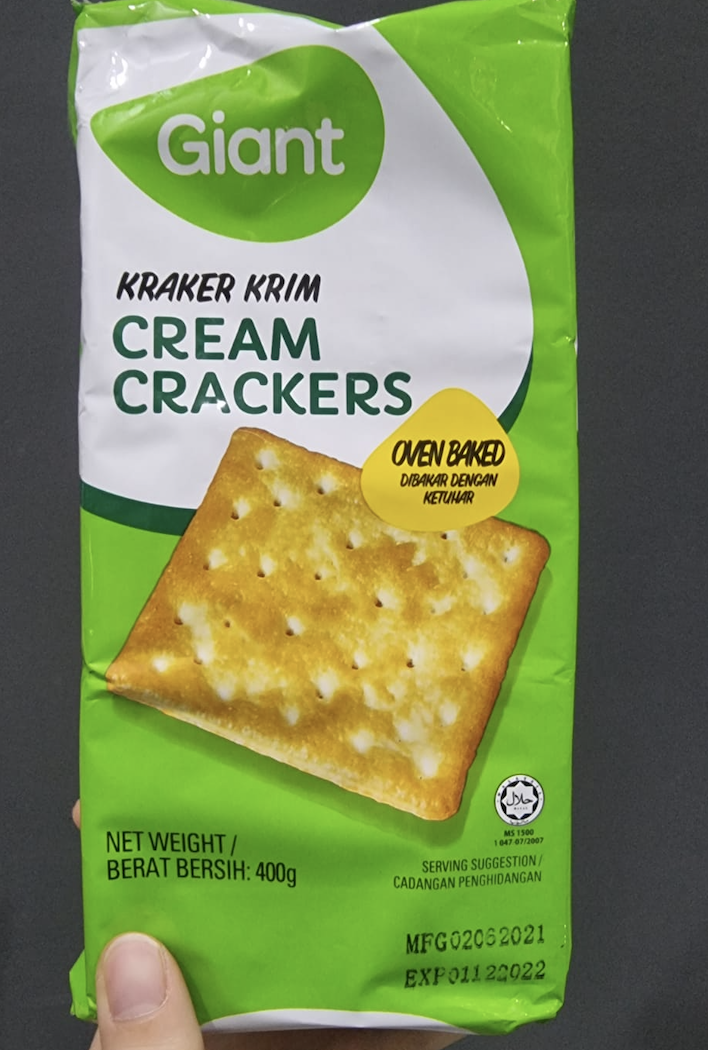Halal: (499, 778, 540, 818)
